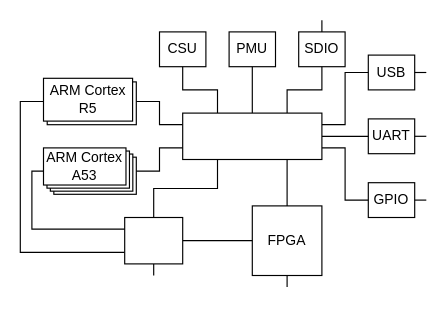
The diagram is 448 pixels wide and 309 high, and some of its shapes have lost their labels. The centre of each missing label's shape, as x and y in pixels:
AXI-Interconnect: point (252, 136)
JTAG: point (153, 240)
